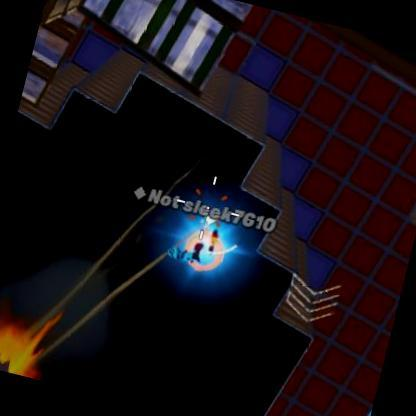person: (188, 221, 224, 270)
